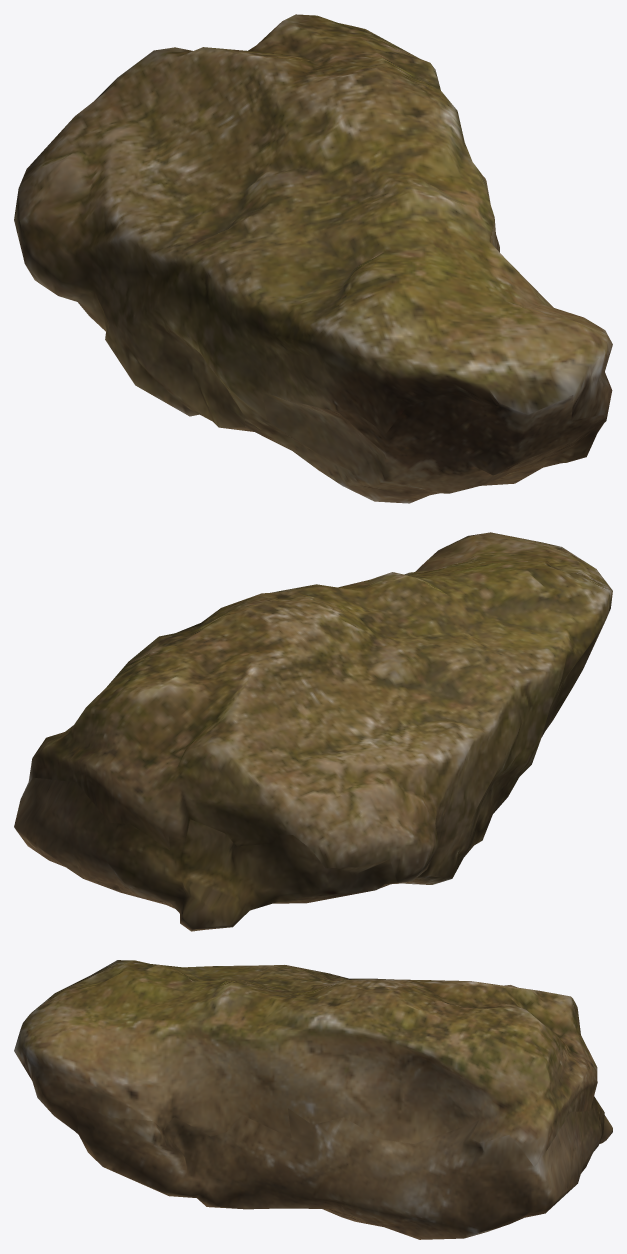
The model's file is pine_rock_e.glb.
3 renders of one model, top to bottom at view 1: azimuth 30°, elevation 25°; view 2: azimuth 150°, elevation 25°; view 3: azimuth 270°, elevation 25°, orthographic. The views are drawn at different scales.
Visible parts, largest first — view 1: pine_rock_e; view 2: pine_rock_e; view 3: pine_rock_e.
Part boxes in pixels (x1,y1,x2,y2): pine_rock_e: (14,14,612,503); pine_rock_e: (14,532,612,931); pine_rock_e: (14,960,612,1239).
Size of the model in its own units: 0.916 by 0.6116 by 1.52.
1 material, 1 textured.
